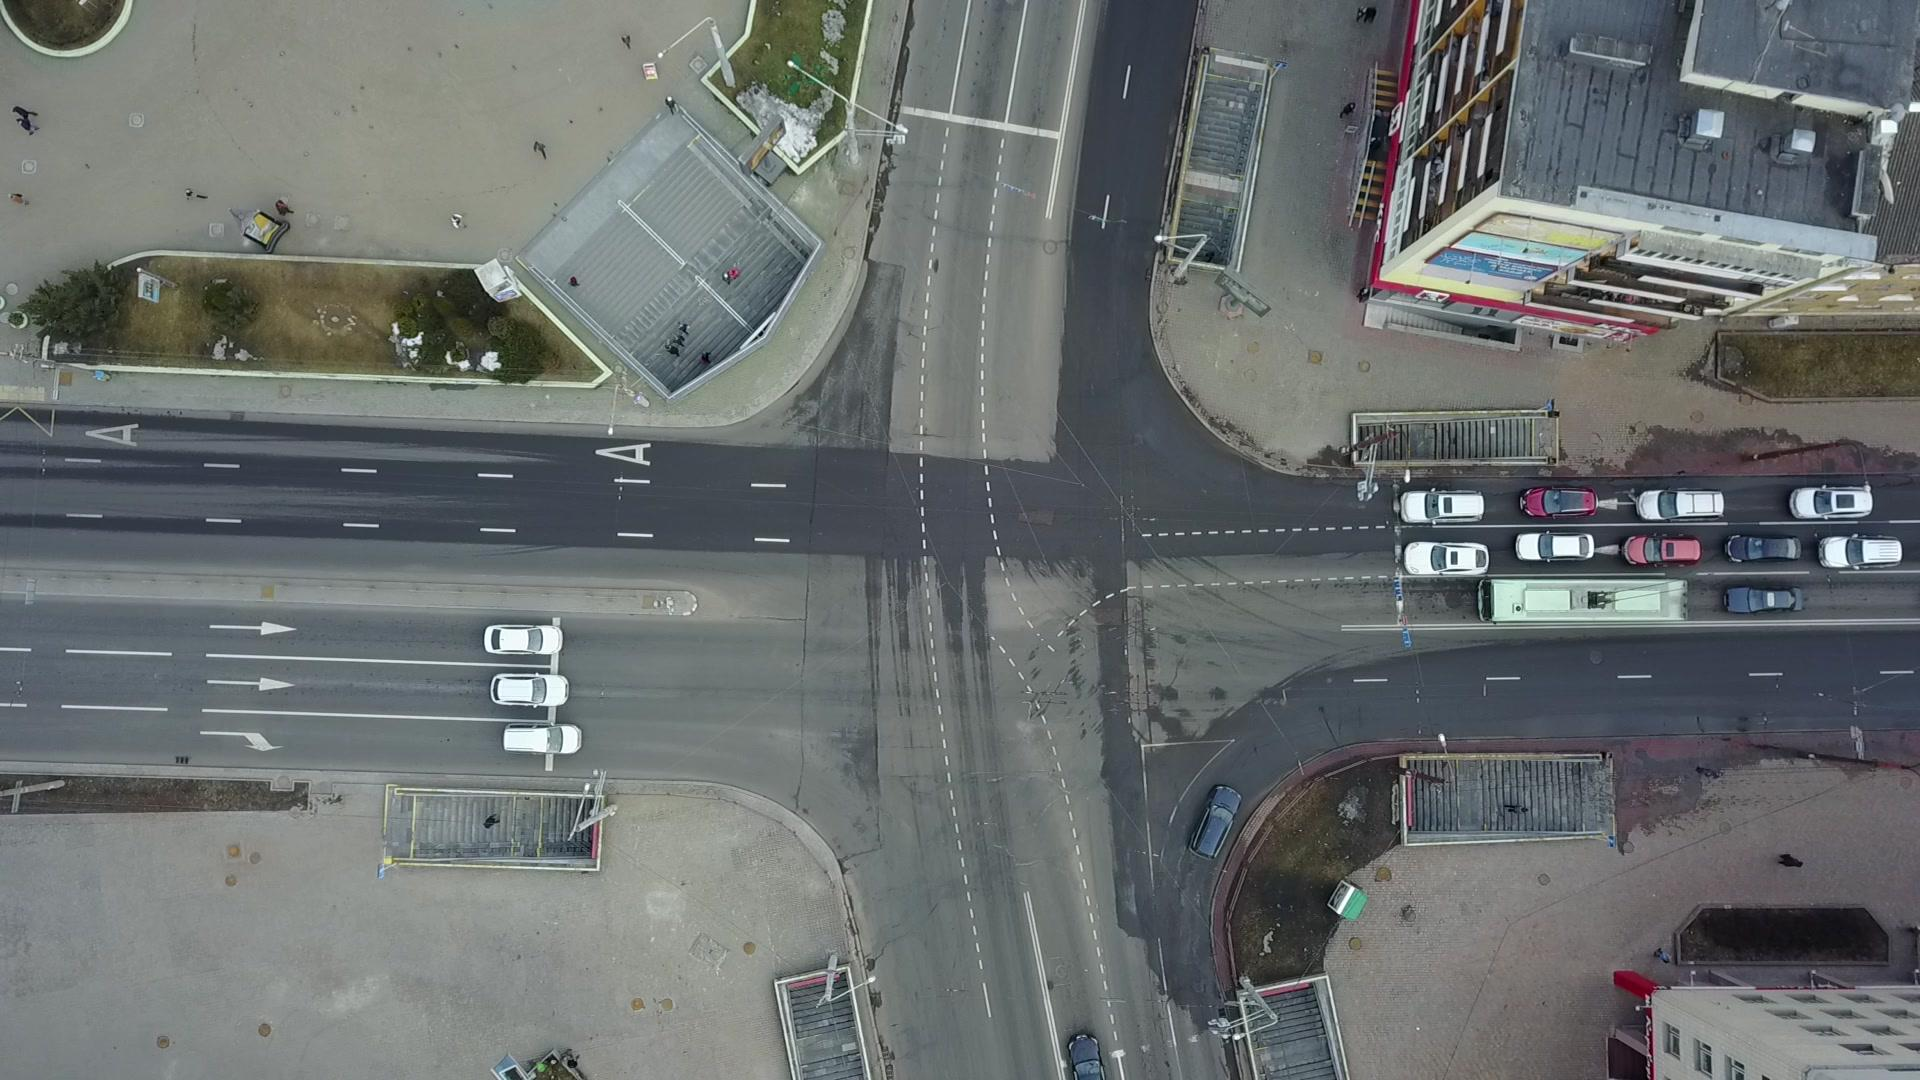car: (1397, 486, 1487, 526), (1635, 484, 1727, 523), (1816, 532, 1904, 570), (1404, 540, 1490, 577), (1788, 485, 1874, 521), (489, 671, 570, 709), (1518, 484, 1599, 521), (1621, 532, 1702, 568), (482, 622, 565, 656), (501, 721, 584, 755), (1515, 530, 1596, 562), (1723, 584, 1805, 615), (1723, 532, 1802, 564)
